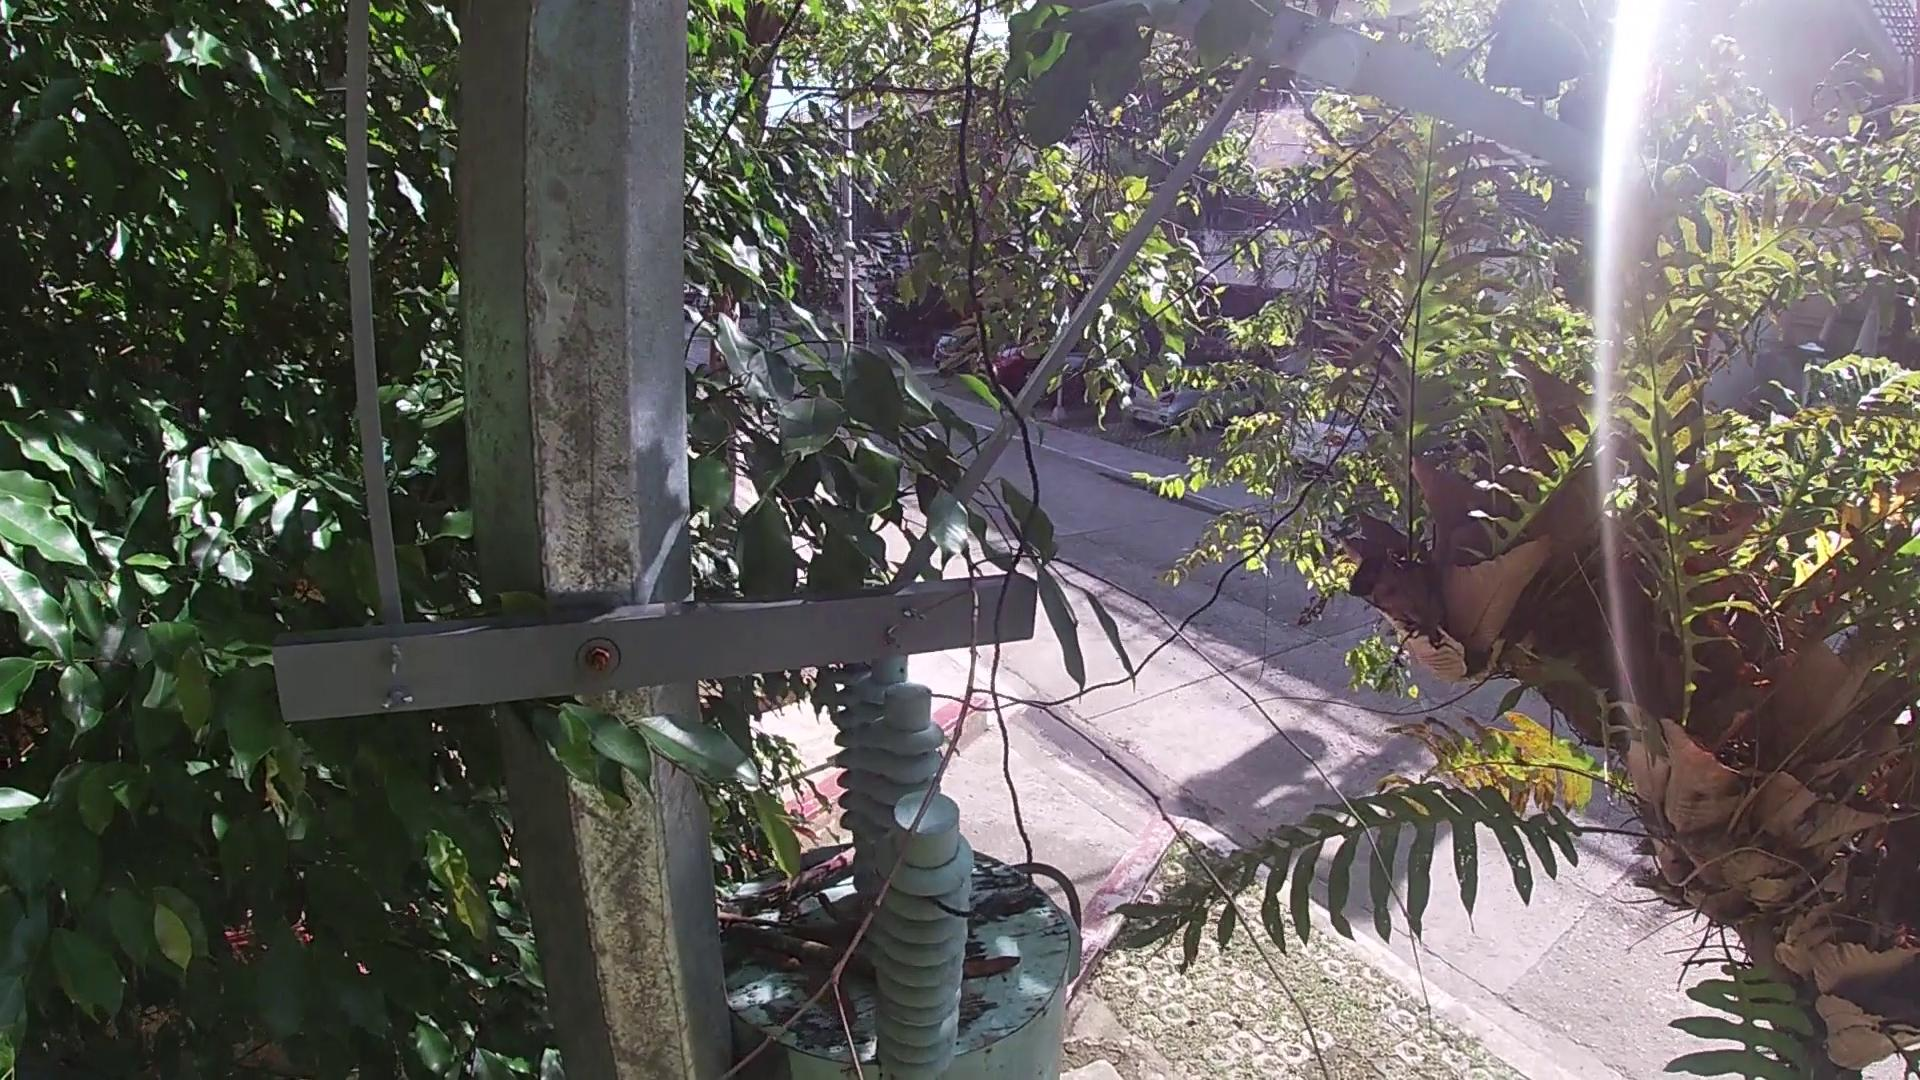leaf: (803, 977, 869, 1029), (729, 952, 800, 972)
mahogany fruit: (963, 949, 1033, 984), (814, 887, 861, 919)
tree branch: (762, 520, 1360, 1071), (723, 841, 869, 910), (727, 919, 872, 961), (711, 906, 833, 935)
